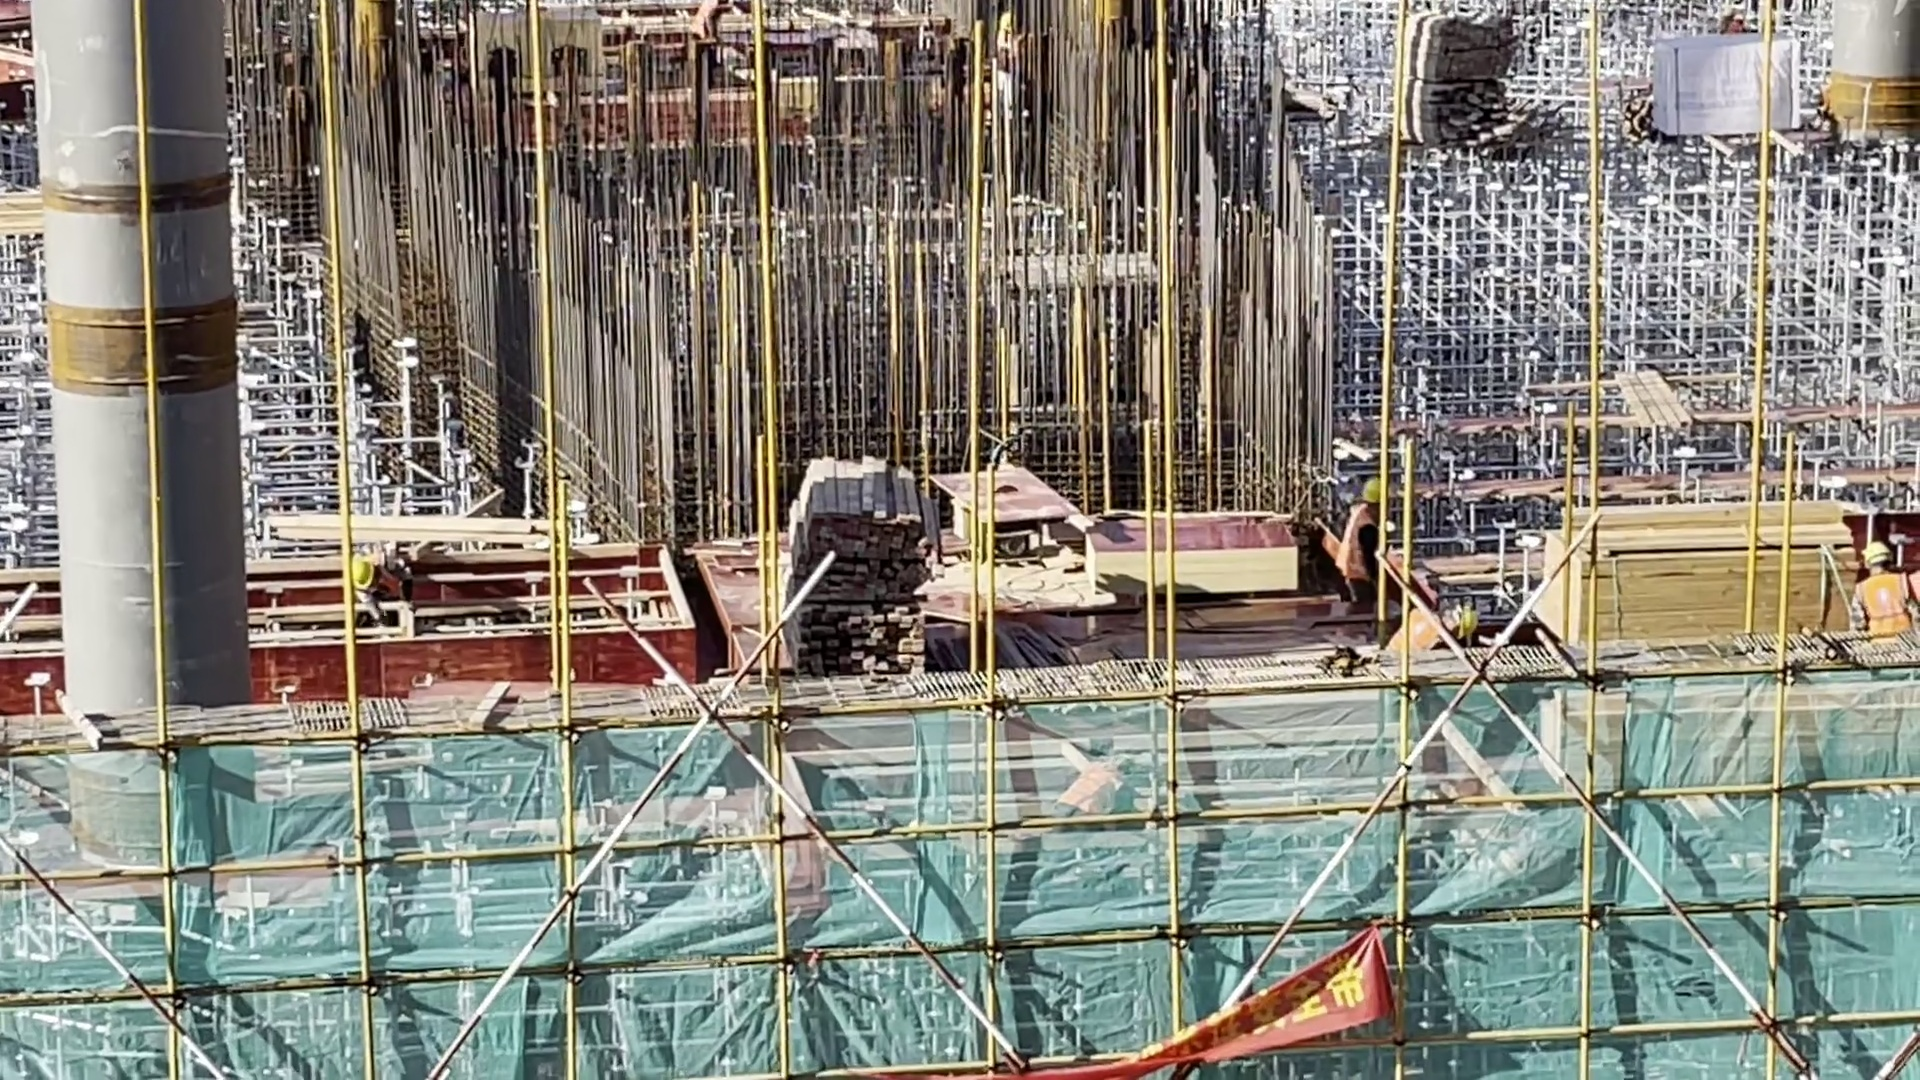helmet: (348, 554, 388, 594), (1855, 535, 1896, 572), (1355, 476, 1386, 511)
person: (1336, 471, 1422, 658), (1840, 530, 1920, 643), (338, 541, 428, 623)
slogan: (1011, 906, 1407, 1080)
vest: (1333, 504, 1396, 597), (1847, 569, 1920, 645)
wood: (1540, 483, 1854, 669), (759, 435, 941, 686)
